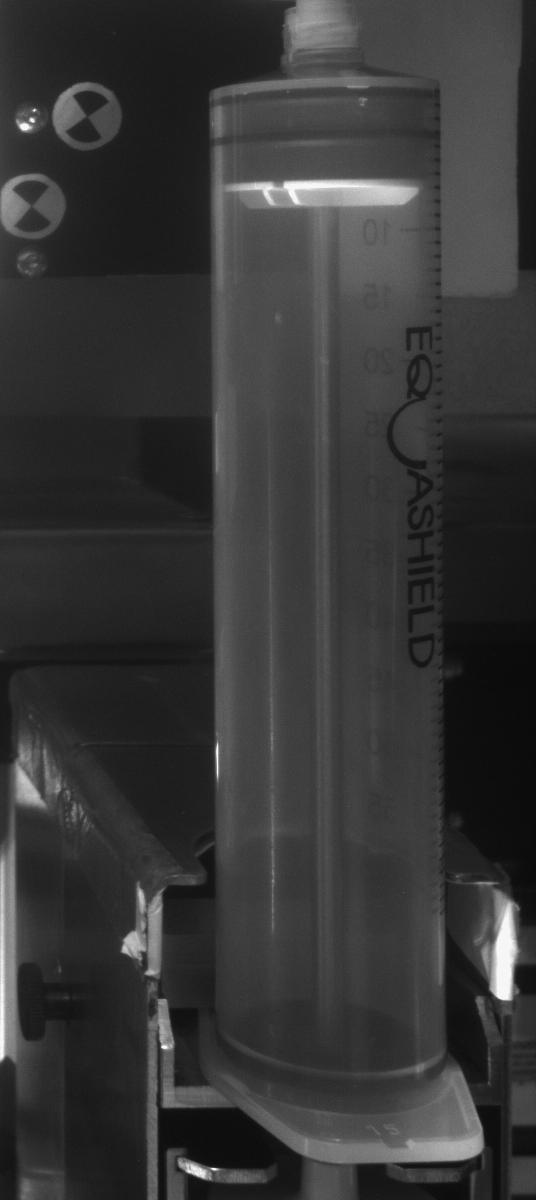piston: (207, 107, 442, 211)
